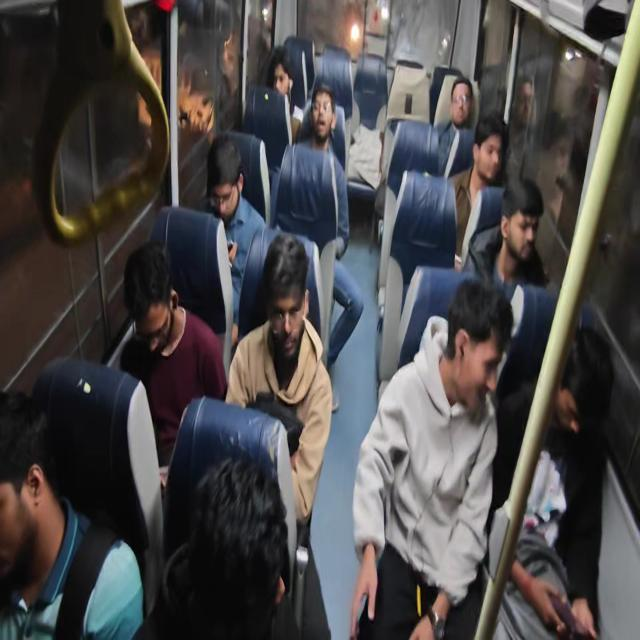person: (350, 276, 513, 638), (486, 324, 614, 638), (0, 389, 145, 639), (225, 232, 333, 528), (132, 449, 291, 639), (120, 239, 228, 489), (200, 135, 266, 341), (291, 81, 350, 258), (461, 175, 548, 292), (447, 113, 506, 268), (537, 118, 577, 231), (297, 81, 343, 167), (436, 76, 474, 176), (265, 45, 303, 144), (505, 72, 536, 180), (215, 22, 242, 132)
